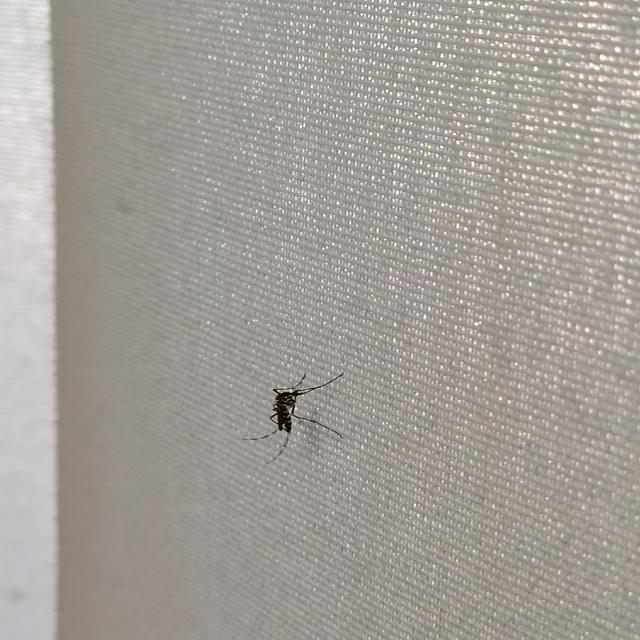albopictus: (235, 364, 354, 468)
